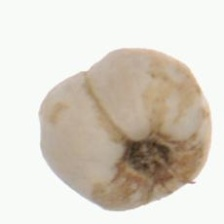L4: (38, 47, 212, 211)
